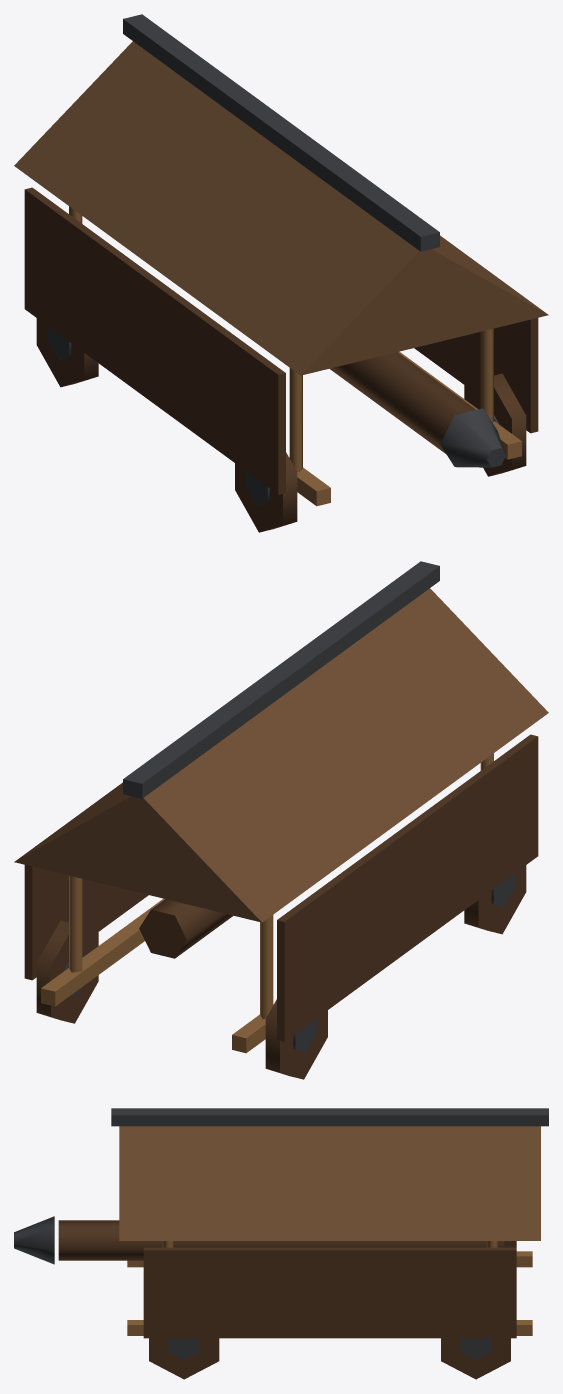
File: unit_mil_ram_a02_lod1.glb
The picture shows the model from 3 angles, top to bottom: view 1: azimuth 30°, elevation 25°; view 2: azimuth 150°, elevation 25°; view 3: azimuth 270°, elevation 25°; orthographic projection. The views are drawn at different scales.
Parts seen in each view (by area): view 1: body, ram, wheel_2, wheel_3, wheel_0; view 2: body, ram, wheel_1, wheel_0, wheel_2; view 3: body, ram, wheel_3, wheel_1.
Part boxes in pixels (x1,y1,x2,y2): body: (14, 14, 548, 506); ram: (329, 352, 505, 467); wheel_2: (235, 452, 297, 532); wheel_3: (464, 373, 526, 476); wheel_0: (36, 318, 98, 387); body: (14, 561, 548, 1053); ram: (139, 899, 233, 958); wheel_1: (36, 920, 98, 1023); wheel_0: (265, 999, 327, 1079); wheel_2: (464, 865, 526, 934); body: (111, 1108, 548, 1338); ram: (14, 1216, 504, 1264); wheel_3: (149, 1338, 219, 1379); wheel_1: (441, 1338, 510, 1379).
Size of the model in its own units: 2.72 by 3.05 by 6.6.
